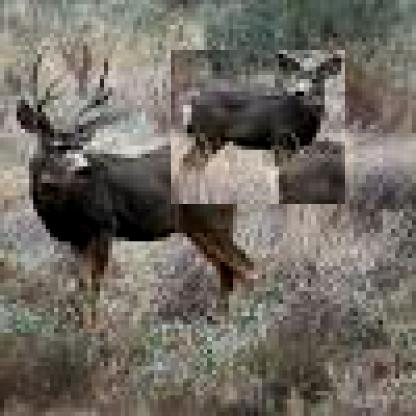Deer: (13, 38, 262, 334), (171, 50, 345, 204)
